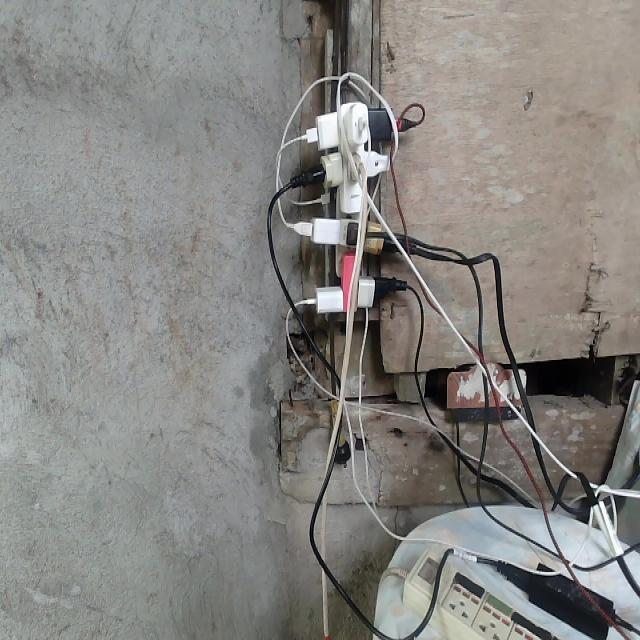-: (259, 49, 437, 339)
